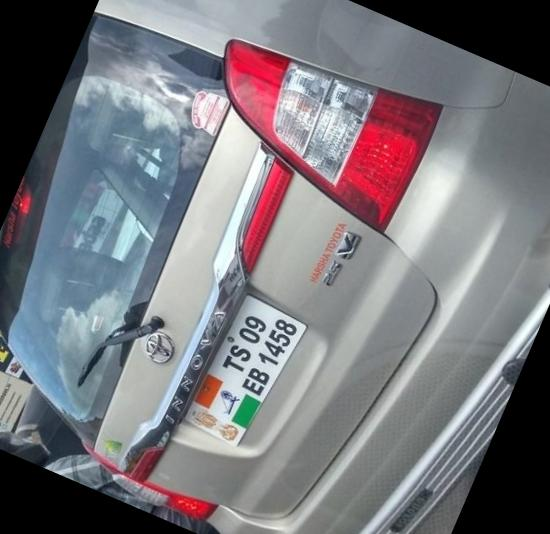plate: (164, 277, 326, 455)
